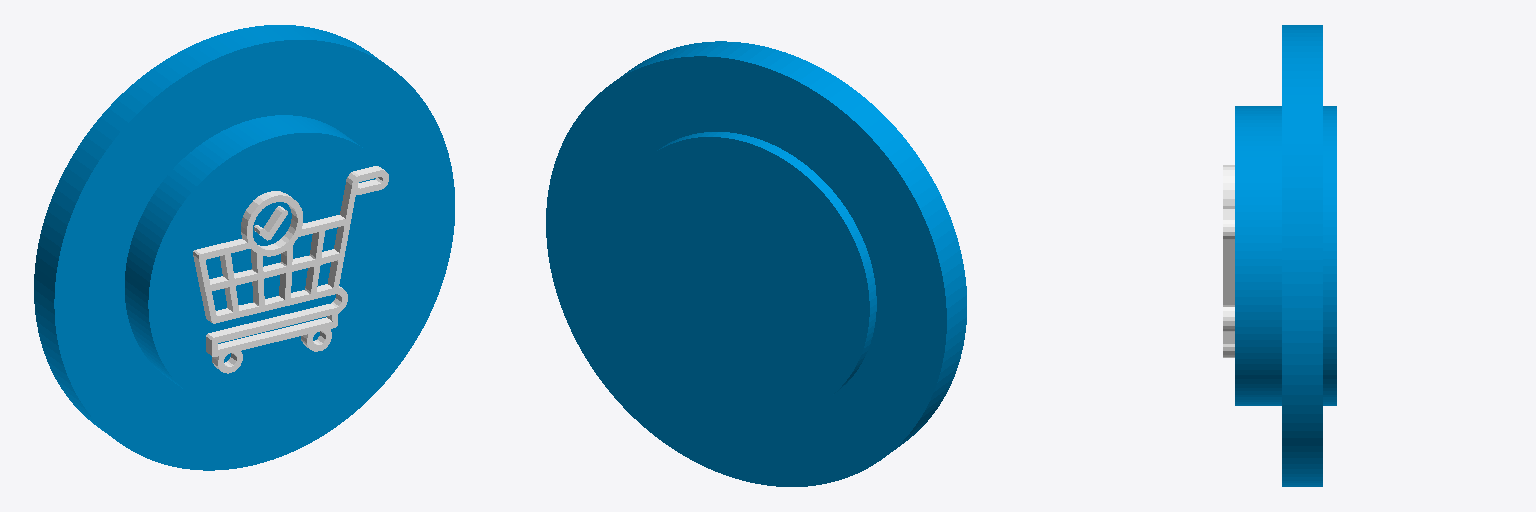
File: bouton-boutique.obj
The picture shows the model from 3 angles: view 1: azimuth 30°, elevation 25°; view 2: azimuth 150°, elevation 25°; view 3: azimuth 270°, elevation 25°; orthographic projection.
Parts seen in each view (by area): view 1: Object.1, Object.2, Object.3; view 2: Object.1, Object.2; view 3: Object.1, Object.2, Object.3.
Boxes of the visible parts, <box> form: Object.1: <box>34,25,454,470</box>; Object.2: <box>125,115,408,412</box>; Object.3: <box>193,166,388,373</box>; Object.1: <box>546,41,966,486</box>; Object.2: <box>609,132,876,416</box>; Object.1: <box>1282,25,1322,486</box>; Object.2: <box>1235,106,1336,405</box>; Object.3: <box>1223,165,1234,357</box>.
Size of the model in its own units: 40 by 40 by 9.88.